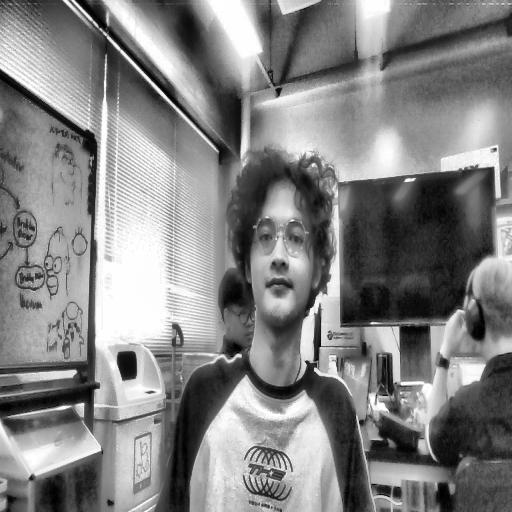Daifuku: (232, 140, 336, 324)
Not Daifuku: (464, 256, 512, 364), (223, 275, 255, 355)
